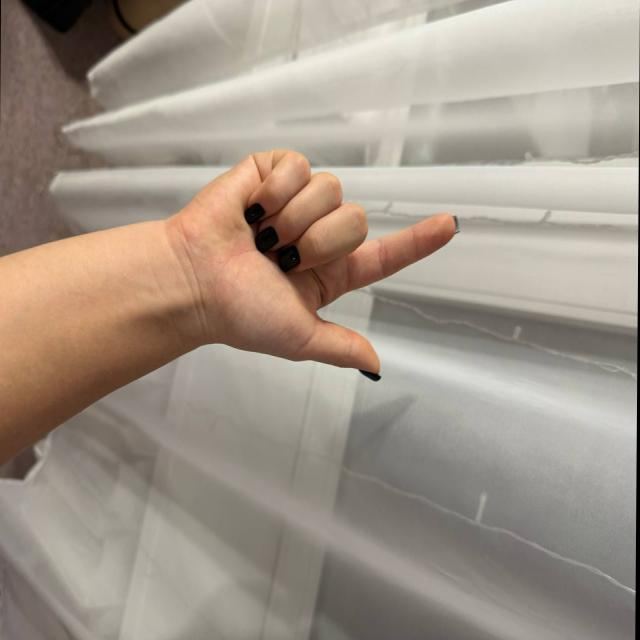g: (235, 102, 474, 386)
